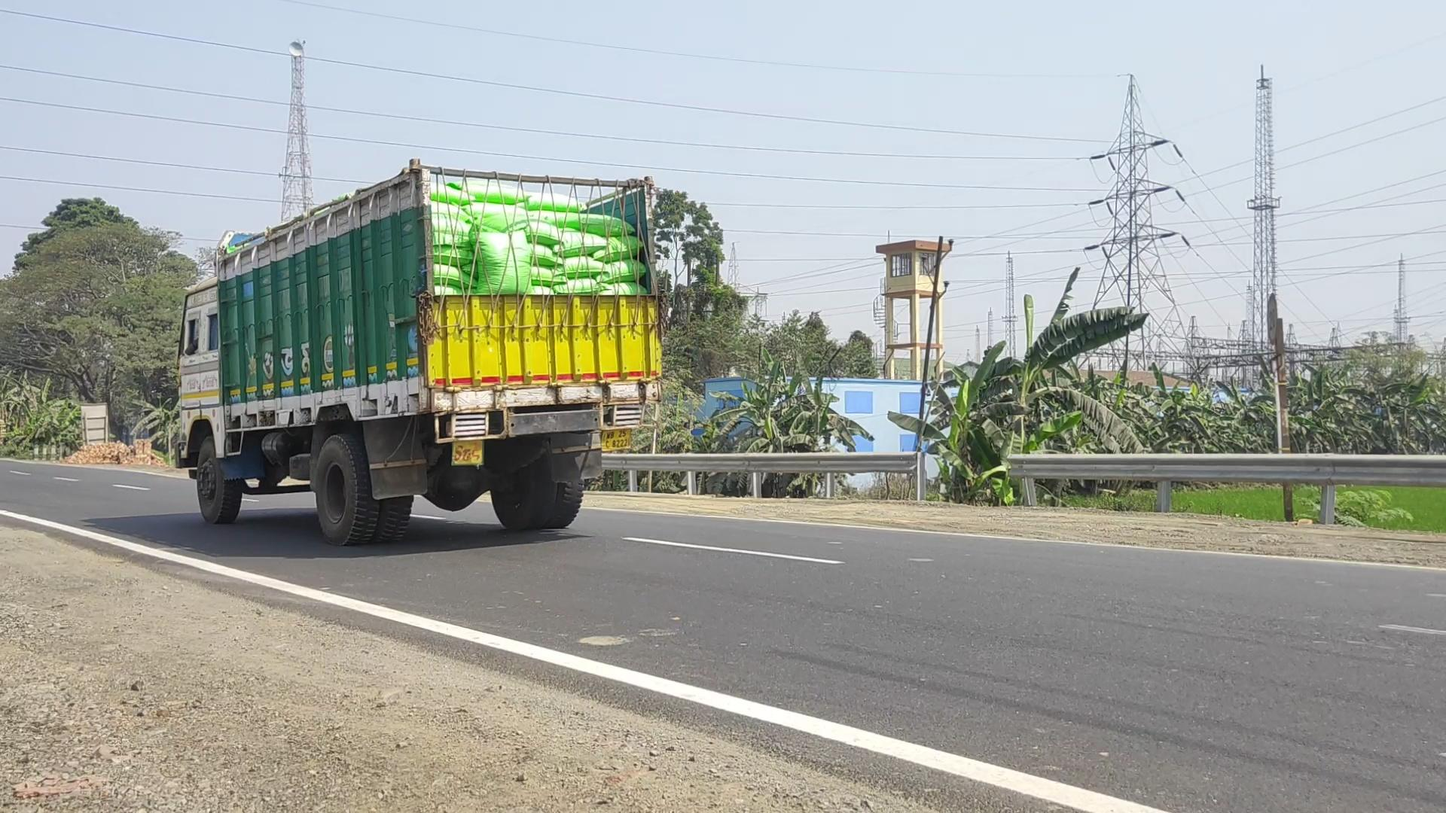truck: (175, 159, 669, 547)
